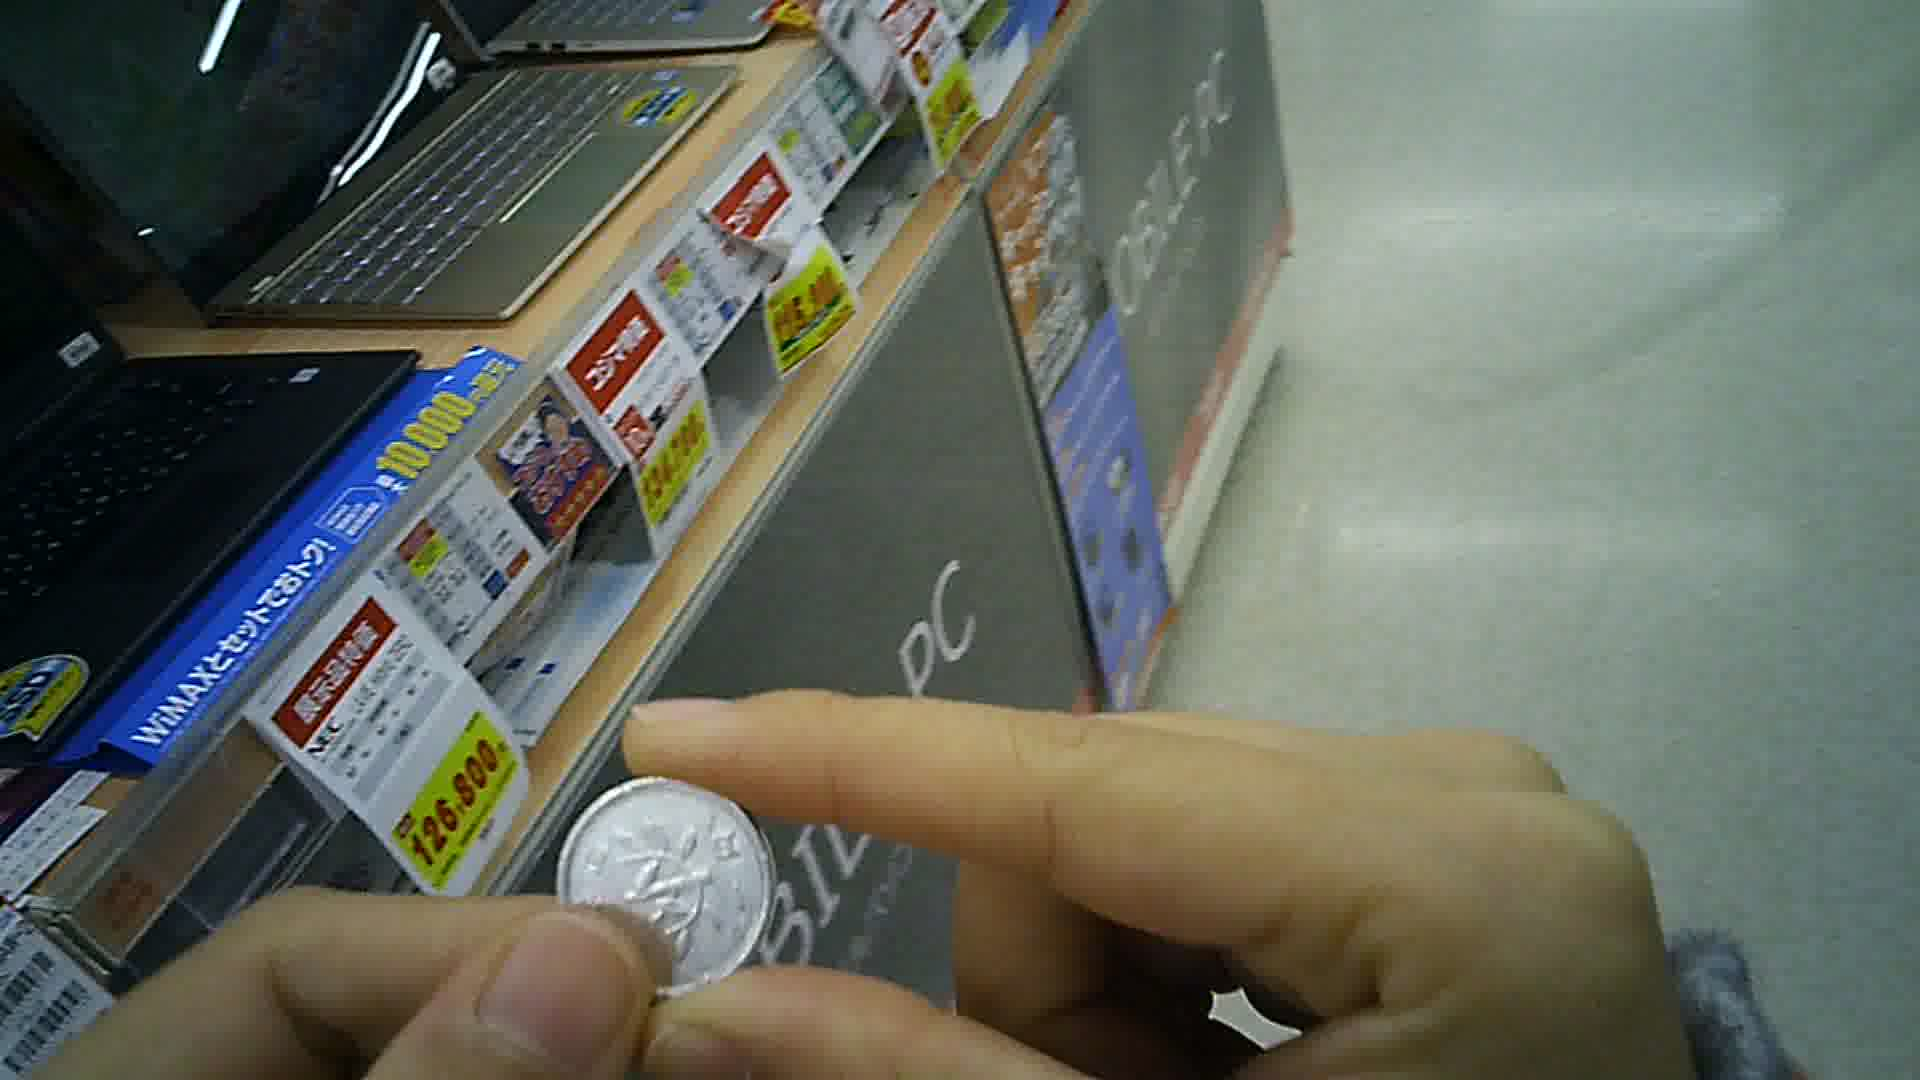1 Yen: (564, 765, 783, 1004)
